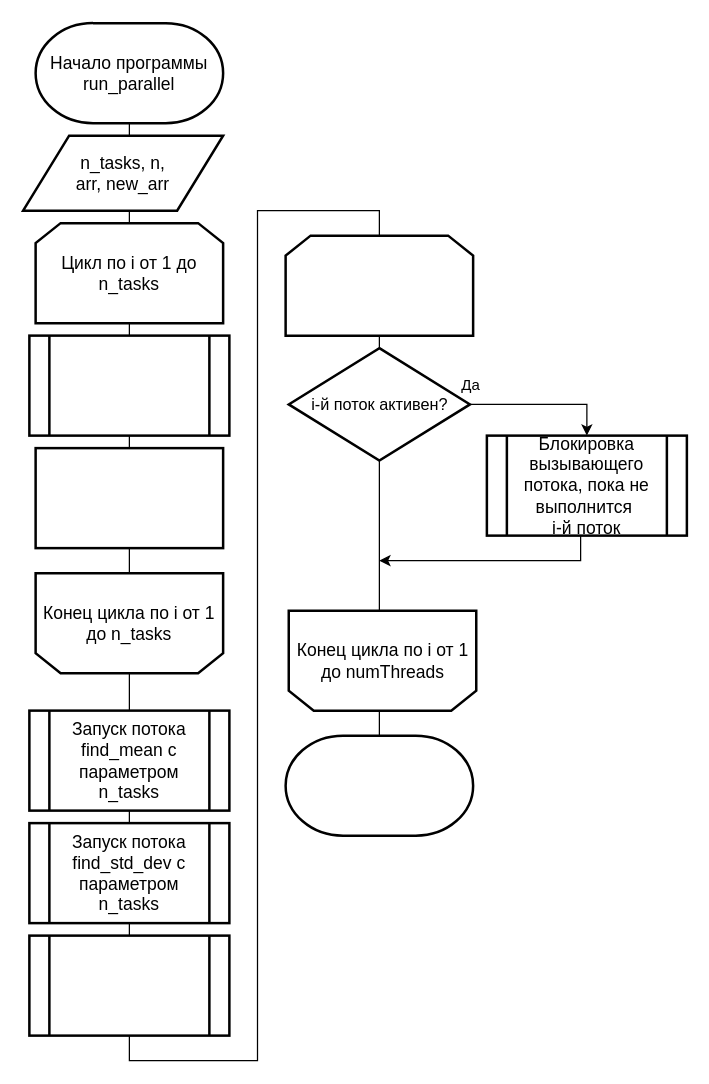
This 709x1084 diagram has some shape labels left out. Here are the shapes that lost their labels. From the top down, the centre of each, then its label:
At pixel 379 285: "Цикл по i от 1 до numThreads".
At pixel 129 385: "Создание очередной заявки".
At pixel 129 497: "Добавление заявки в очередь 1 ленты".
At pixel 379 785: "Конец программы run_parallel".
At pixel 129 985: "Запуск потока transform с параметром n_tasks".
